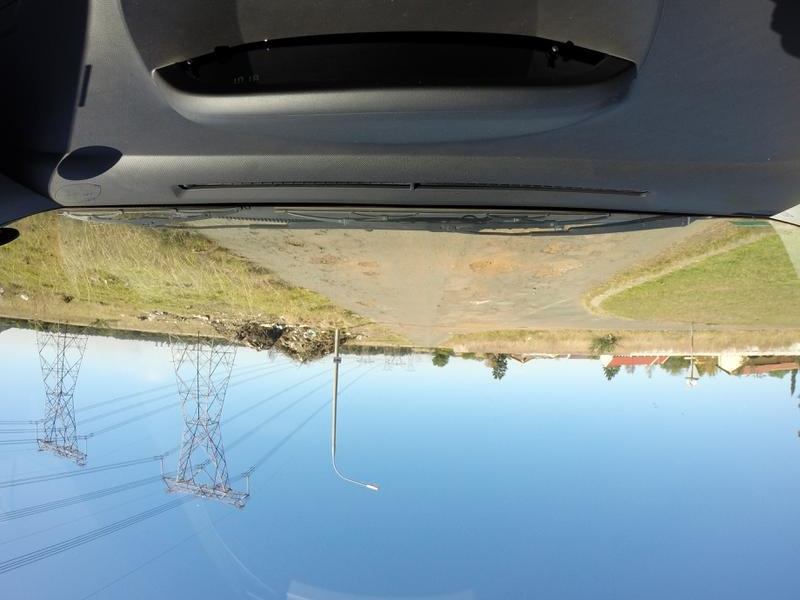pothole: (464, 252, 517, 283), (532, 259, 586, 288), (540, 235, 584, 258), (310, 249, 345, 272), (357, 251, 386, 271), (358, 293, 377, 315), (285, 236, 311, 250)
